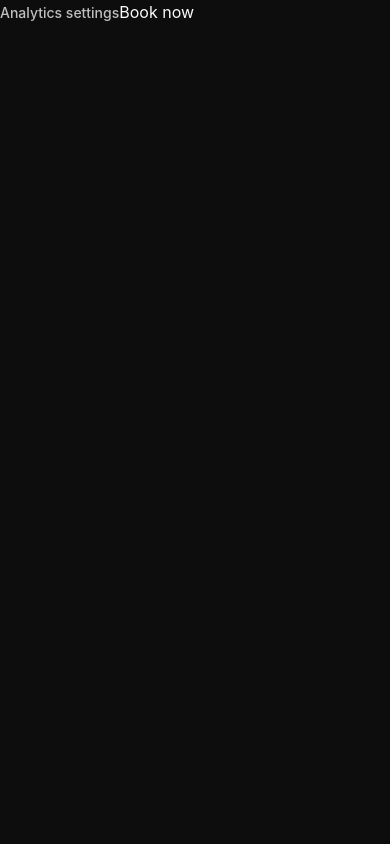
it: optional analytics controls › does not prompt or load on initial excluded path /account
Click the button "Analytics settings": (60, 13) [0,3,119,23]
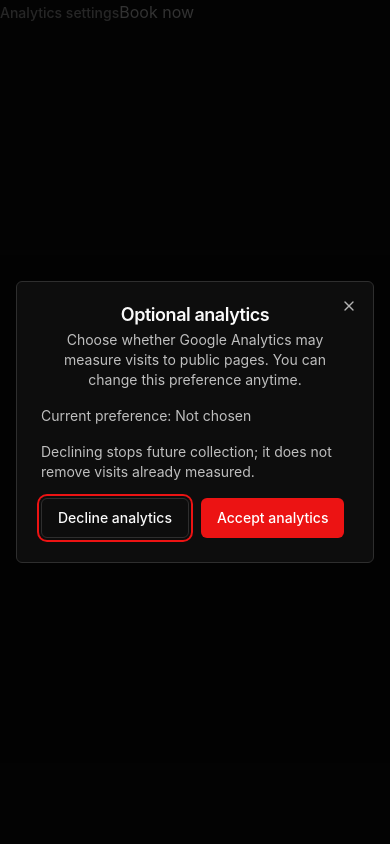
Now the text "Current preference: Not chosen" is shown, box [41,407,251,424]
